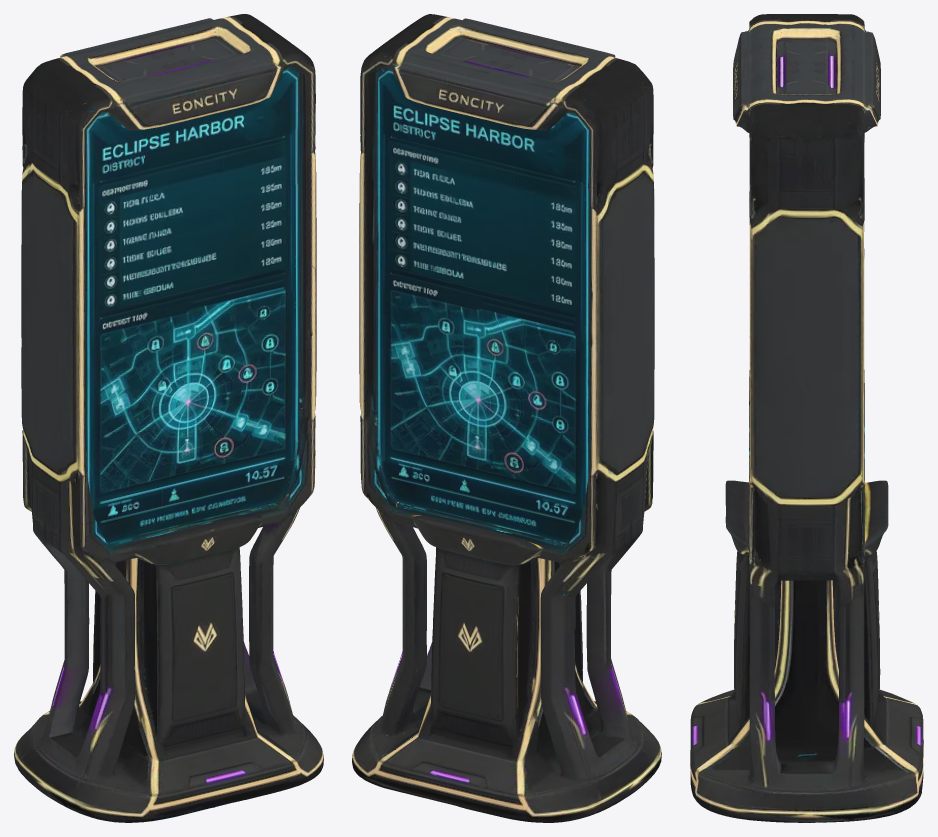
File: eoncity_district_info.88ff692fbb40.glb
3 views of the same model, side by side, from view 1: azimuth 30°, elevation 25°; view 2: azimuth 150°, elevation 25°; view 3: azimuth 270°, elevation 25° (orthographic).
Visible parts, largest first — view 1: Mesh1.0; view 2: Mesh1.0; view 3: Mesh1.0.
Boxes of the visible parts, bbox=[...] form: Mesh1.0: bbox=[14, 14, 323, 822]; Mesh1.0: bbox=[352, 14, 661, 822]; Mesh1.0: bbox=[690, 14, 923, 822].
Bounding box in the file's own units: 0.7173 × 1.9 × 0.5728.
1 material, 1 textured.
